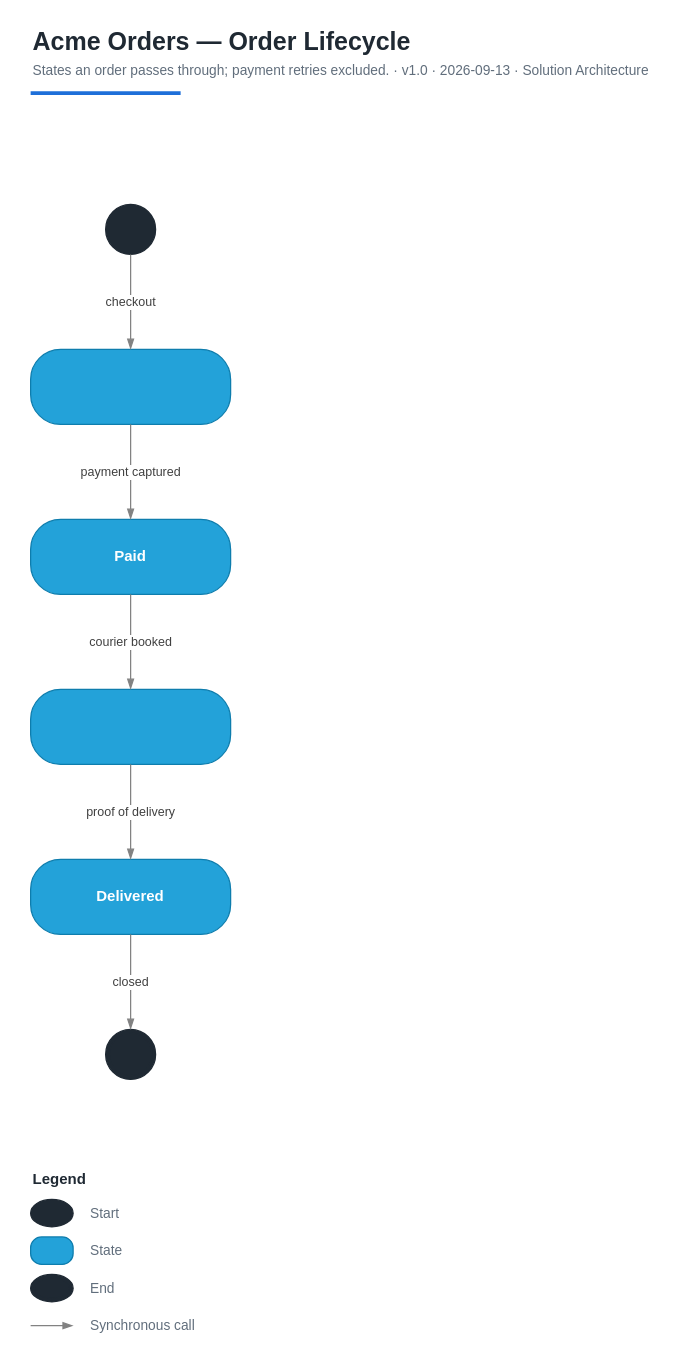
This 685x1360 diagram has some shape labels left out. Here are the shapes that lost their labels. From the top down, the centre of each, then its label:
the point at 130,386: Placed
the point at 130,726: Shipped
